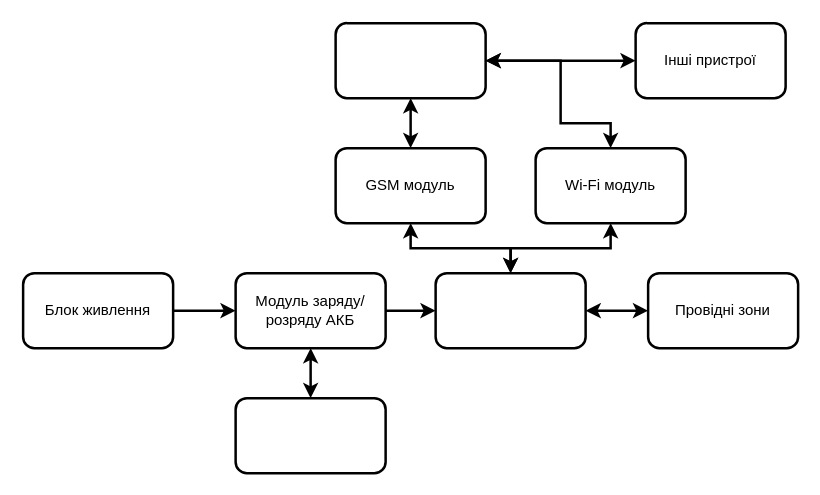
The diagram is 820 pixels wide and 495 high, and some of its shapes have lost their labels. The shapes that lost their labels are listed below. From the top down, each one's centre as x and y in pixels, then its label:
At (410,60): "Телефон користувача".
At (510,310): "МК Teensy".
At (310,435): "Акамулятор".
